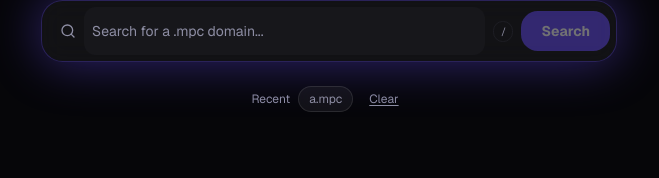
Test: DomainSearch › Loading state › shows loading spinner while checking
Type "testdomain" into the field with placeholder "Search for a .mpc domain..." at (285, 31), box [84,7,486,55]
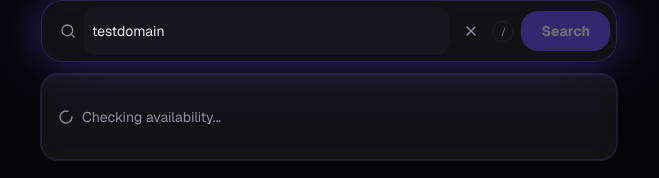
Result: the text "Checking availability..." is shown at [58,108,221,126]
